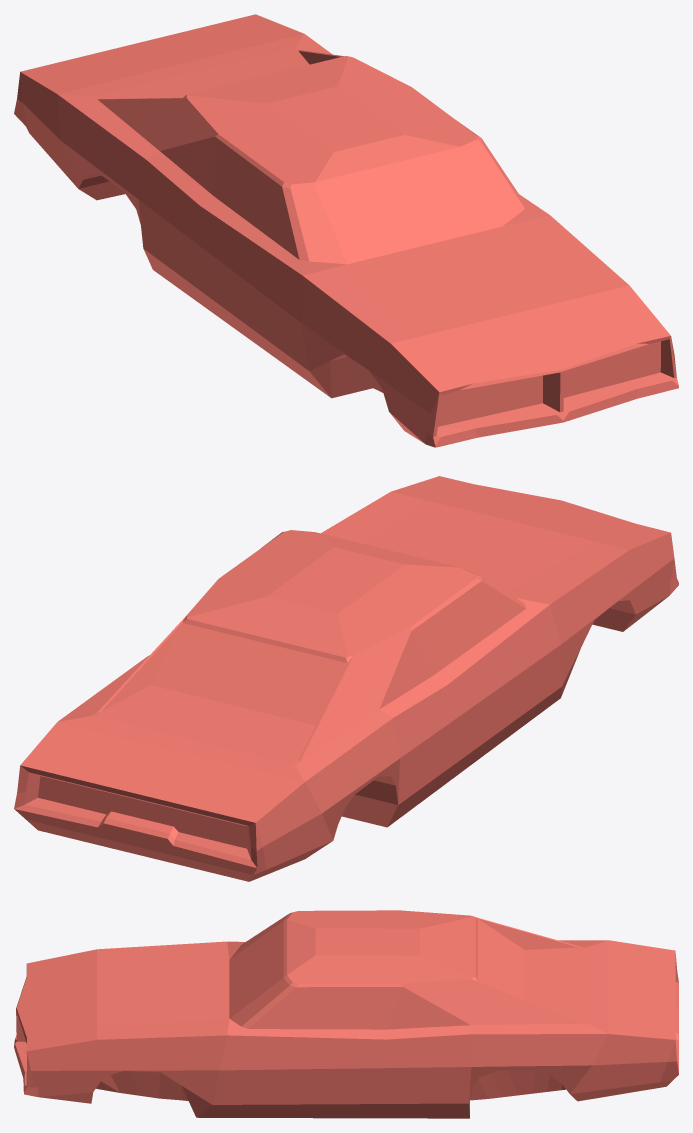
The picture shows the model from 3 angles, top to bottom: view 1: azimuth 30°, elevation 25°; view 2: azimuth 150°, elevation 25°; view 3: azimuth 270°, elevation 25°; orthographic projection. The views are drawn at different scales.
Parts seen in each view (by area): view 1: Cube; view 2: Cube; view 3: Cube.
Part boxes in pixels (x1,y1,x2,y2): Cube: (14, 14, 678, 447); Cube: (14, 476, 678, 881); Cube: (14, 910, 678, 1118).
Size of the model in its own units: 1.88 by 1.18 by 5.34.
